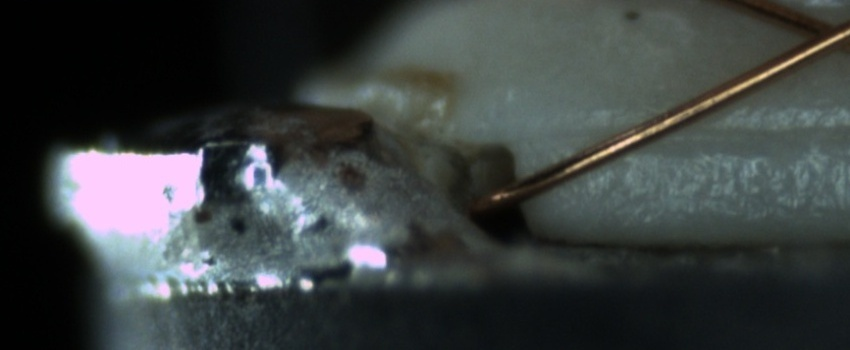CL: (779, 3, 849, 64)
DL: (557, 97, 850, 163)
